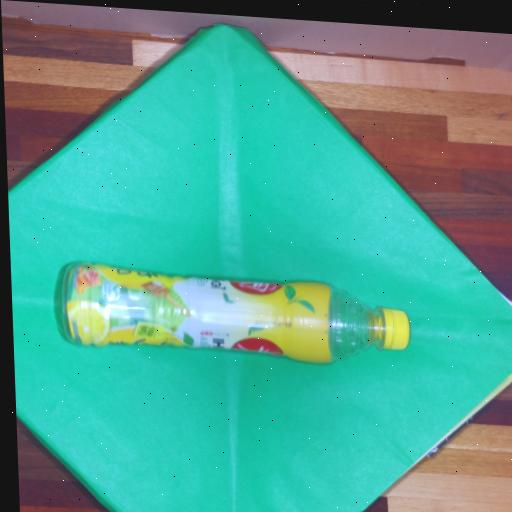bottle: (34, 245, 429, 385)
